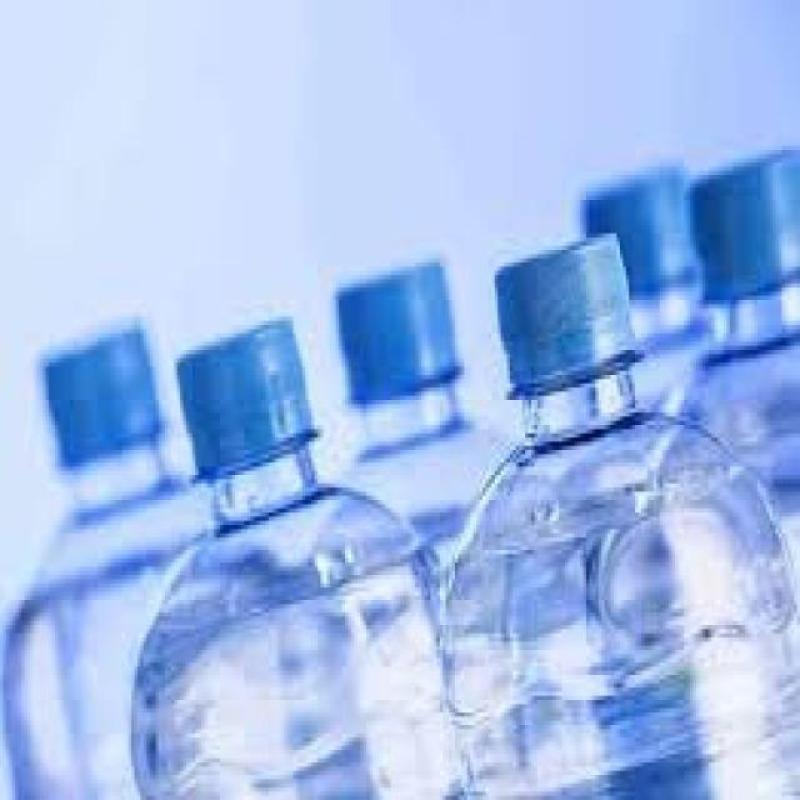botella: (445, 232, 800, 800), (135, 320, 471, 800), (2, 320, 222, 800), (328, 258, 512, 571), (684, 146, 800, 576), (576, 160, 706, 406)
